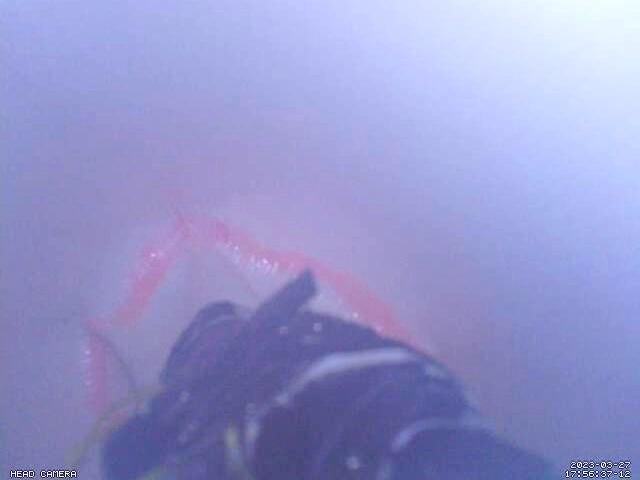head: (81, 210, 452, 429)
